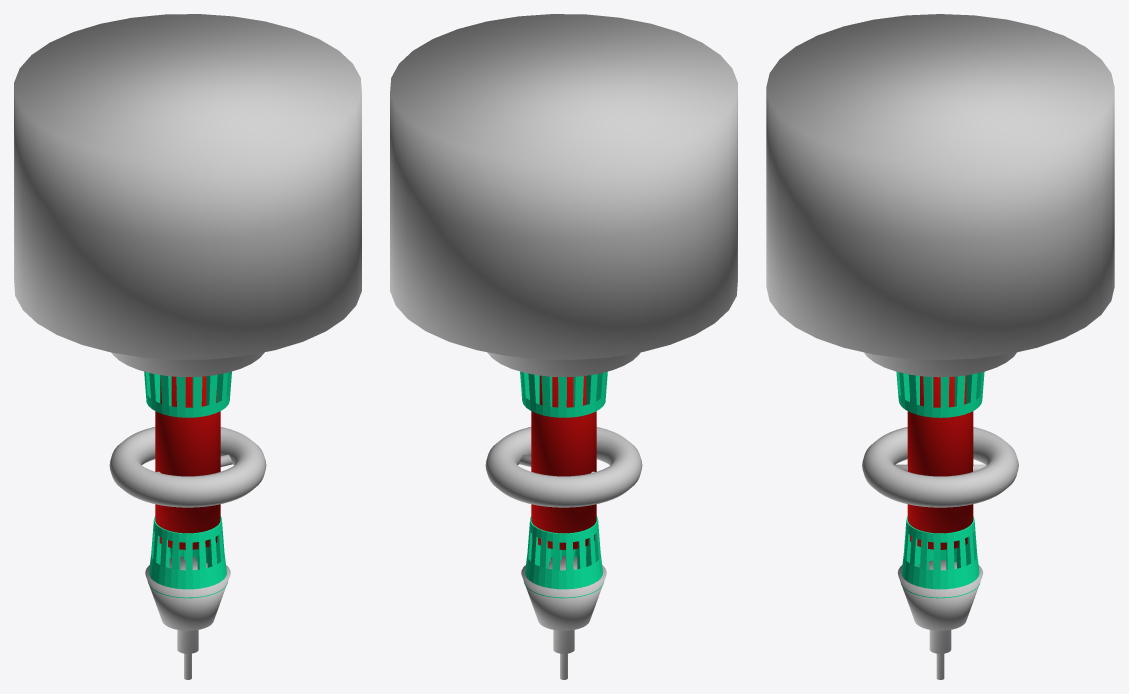
File: MaquinaLab.obj
3 renders of one model, left to right at view 1: azimuth 30°, elevation 25°; view 2: azimuth 150°, elevation 25°; view 3: azimuth 270°, elevation 25°, orthographic.
Parts seen in each view (by area): view 1: Cylinder.006, Torus, Cylinder.001_Cylinder.002, Cylinder.004_Cylinder.005, Cylinder.005_Cylinder, Cylinder.003_Cylinder.004, Cylinder_Cylinder.001; view 2: Cylinder.006, Torus, Cylinder.001_Cylinder.002, Cylinder.004_Cylinder.005, Cylinder.005_Cylinder, Cylinder.003_Cylinder.004, Cylinder_Cylinder.001; view 3: Cylinder.006, Torus, Cylinder.001_Cylinder.002, Cylinder.004_Cylinder.005, Cylinder.005_Cylinder, Cylinder.003_Cylinder.004, Cylinder_Cylinder.001.
Part boxes in pixels (x1,y1,x2,y2): Cylinder.006: (14,14,361,359); Torus: (109,427,266,507); Cylinder.001_Cylinder.002: (155,375,220,549); Cylinder.004_Cylinder.005: (148,516,227,598); Cylinder.005_Cylinder: (145,556,230,679); Cylinder.003_Cylinder.004: (144,371,231,417); Cylinder_Cylinder.001: (112,352,264,376); Cylinder.006: (390,14,737,359); Torus: (485,427,642,507); Cylinder.001_Cylinder.002: (531,375,596,549); Cylinder.004_Cylinder.005: (524,516,603,598); Cylinder.005_Cylinder: (521,556,606,679); Cylinder.003_Cylinder.004: (520,371,607,417); Cylinder_Cylinder.001: (487,352,639,376); Cylinder.006: (766,14,1114,360); Torus: (862,427,1018,507); Cylinder.001_Cylinder.002: (907,375,973,549); Cylinder.004_Cylinder.005: (901,516,979,598); Cylinder.005_Cylinder: (897,560,983,679); Cylinder.003_Cylinder.004: (896,371,984,417); Cylinder_Cylinder.001: (864,352,1016,377).
Bounding box in the file's own units: 13.11 × 24.52 × 13.11.
